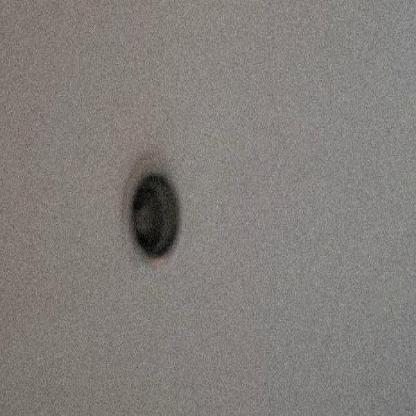light_off: (115, 138, 190, 282)
